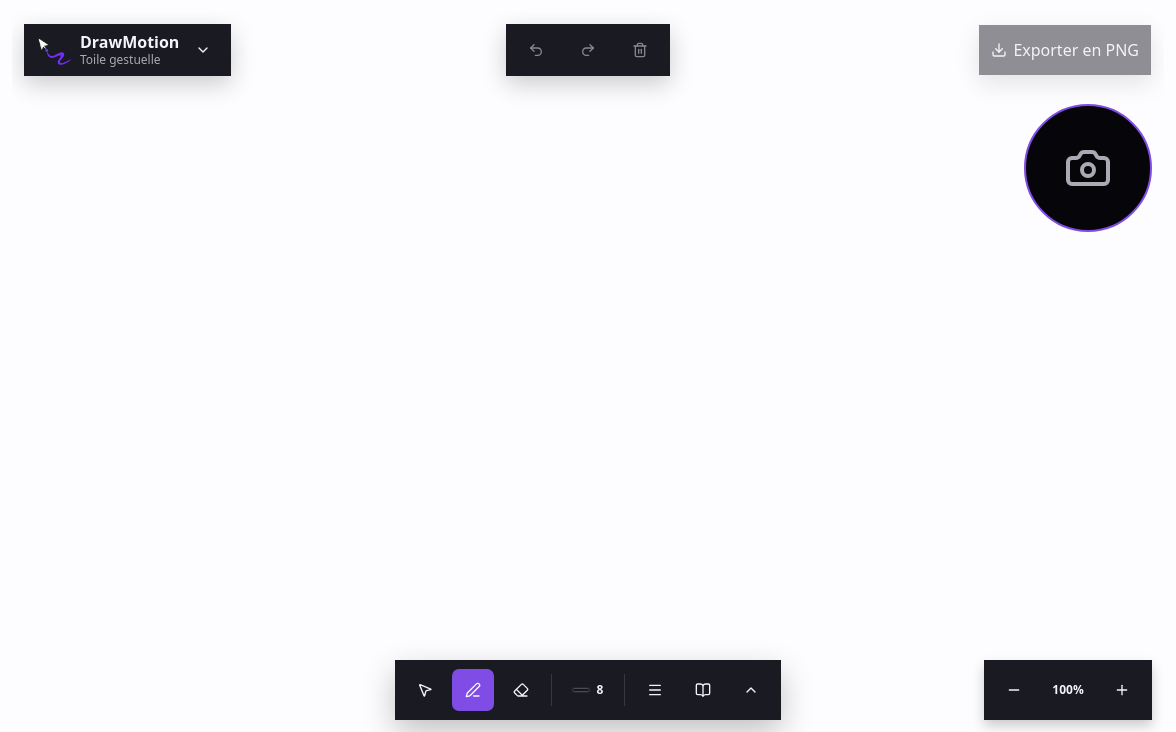
WorkspaceShell › opens commands with the fallback button and M key
Click the button named "Ouvrir les commandes".
click(655, 690)  # box [633, 668, 677, 712]
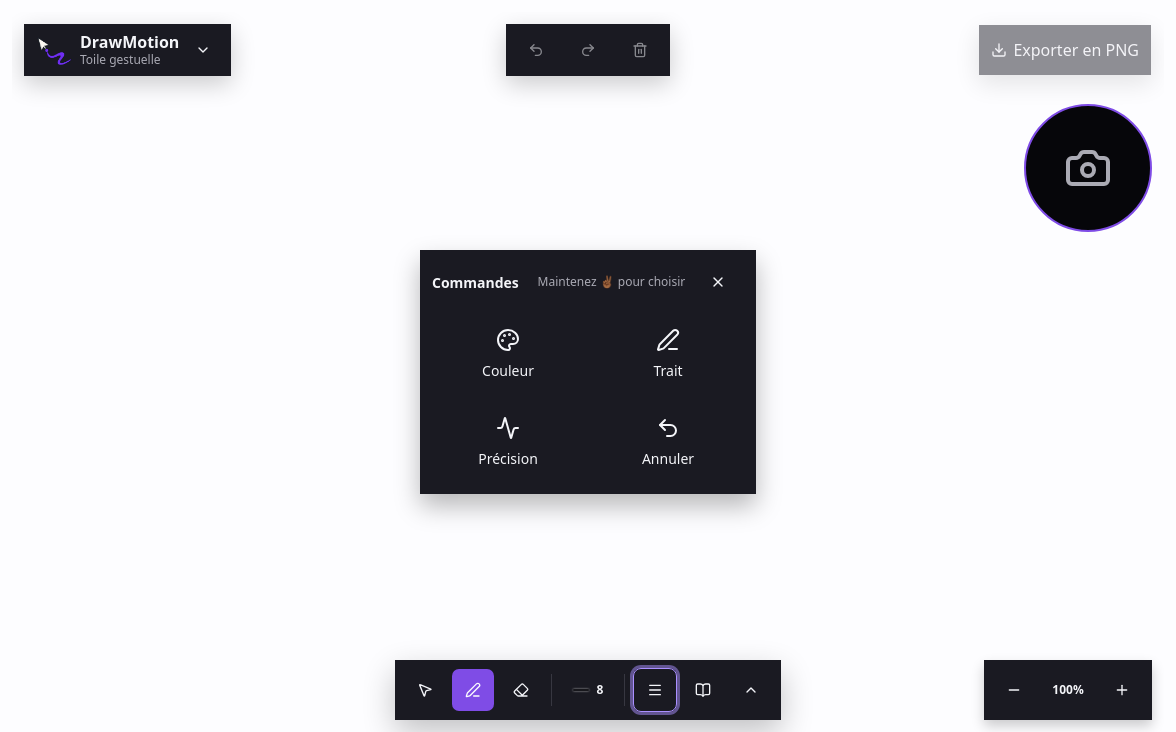
Expected: the element named "Commandes gestuelles" is shown, [420, 250, 756, 494]
Type keys "m"
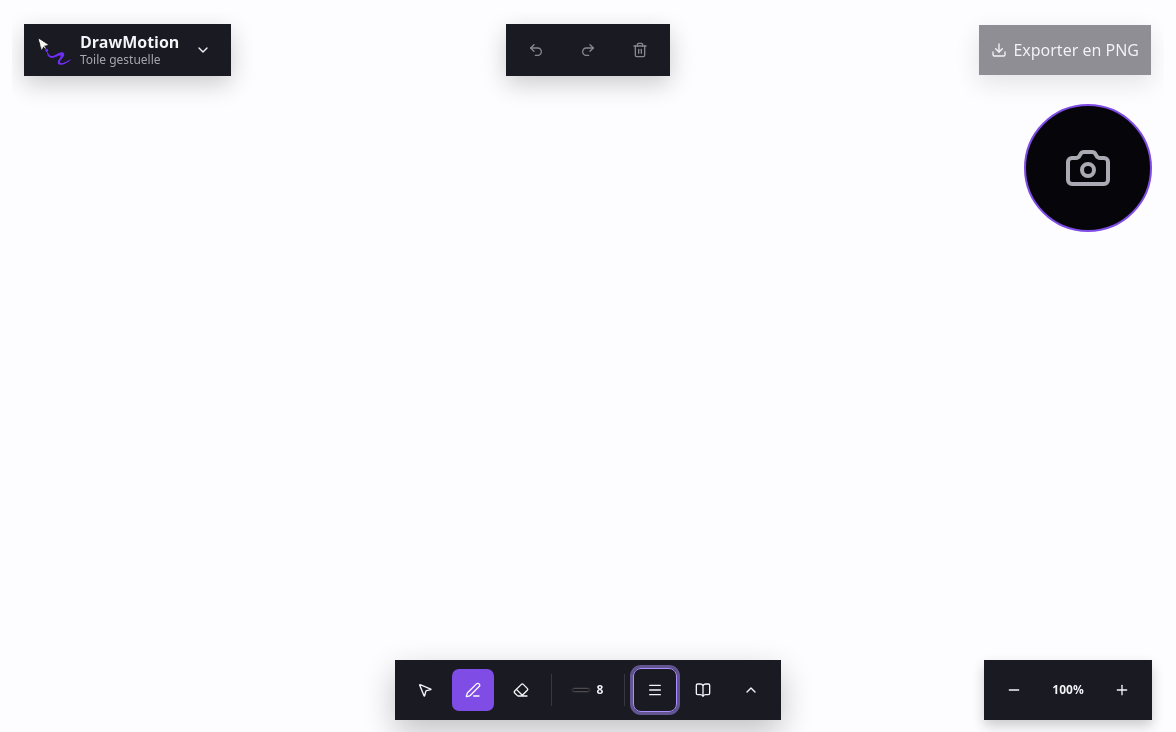
Type keys "m"
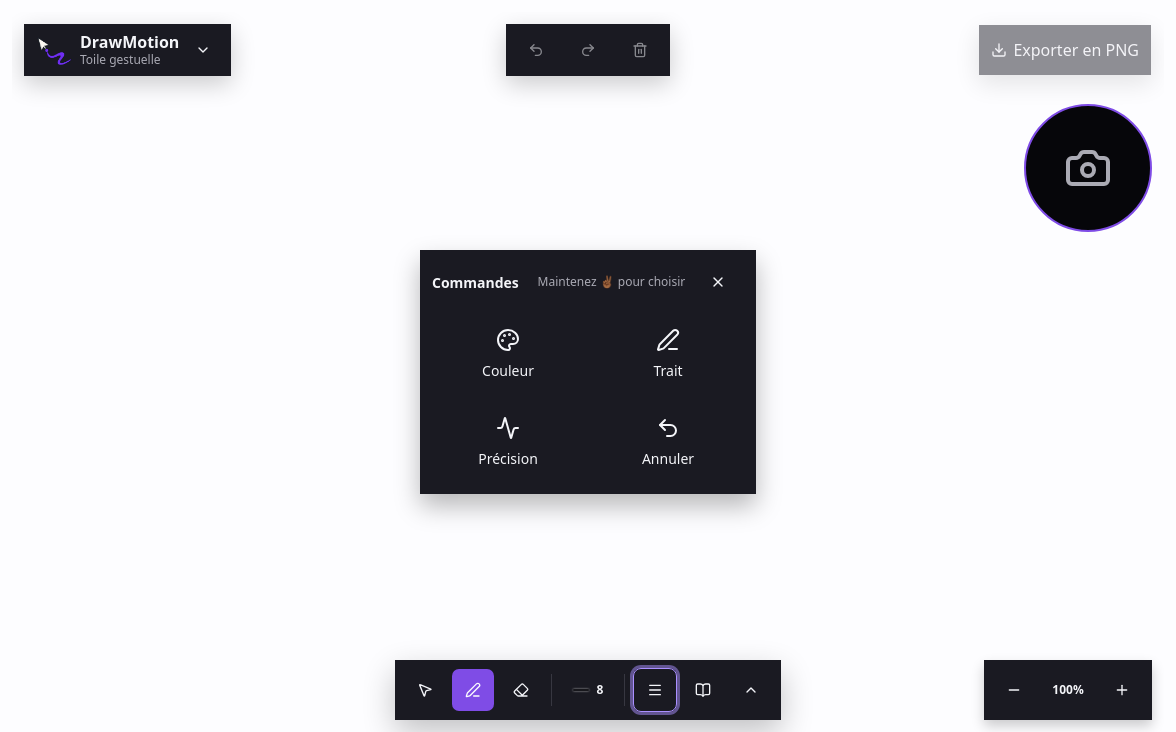
Expected: the element named "Commandes gestuelles" is shown, [420, 250, 756, 494]
